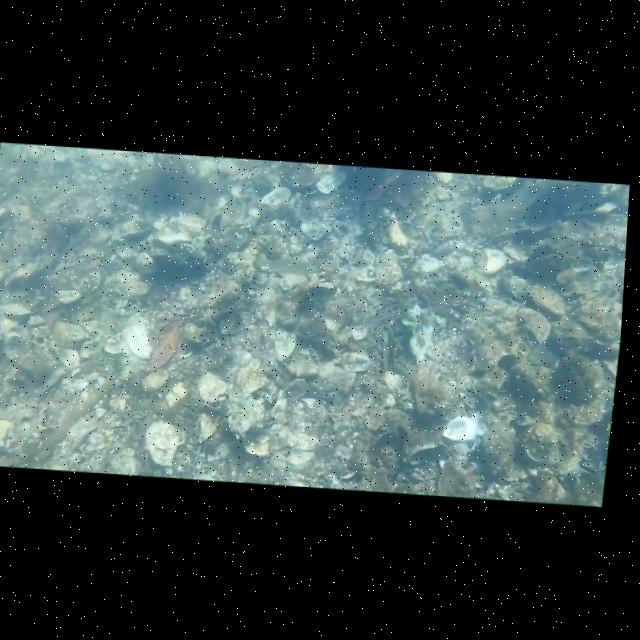Oyster-Closed: (522, 423, 582, 475), (529, 283, 567, 320), (480, 367, 506, 390)
Oyster-Indeterminate: (105, 316, 153, 359), (145, 421, 185, 466), (278, 163, 334, 187), (504, 276, 534, 303)
Oyster-Open: (408, 437, 451, 467), (443, 416, 478, 441)
